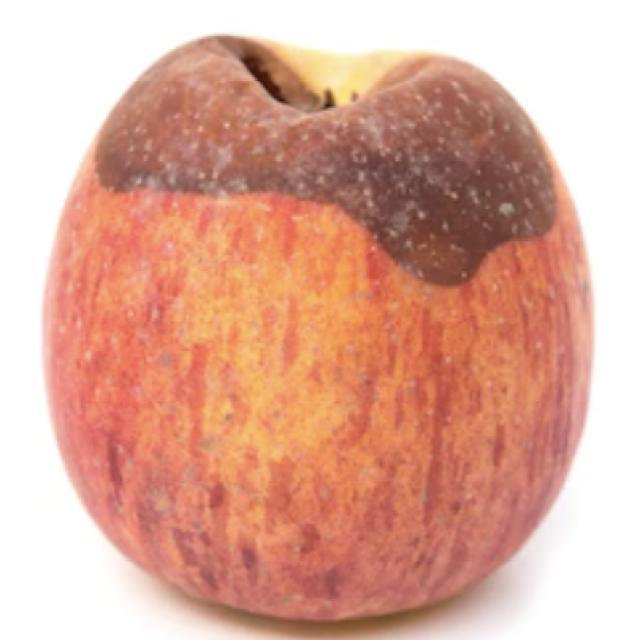Rotten: (45, 26, 601, 640)
